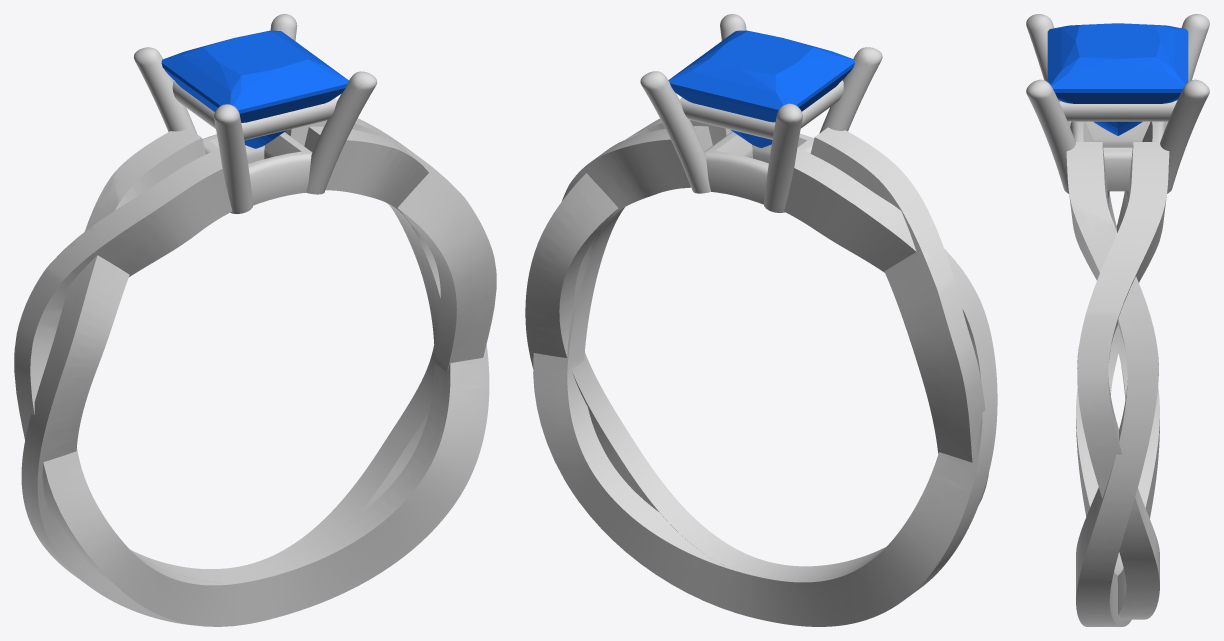
Rendered from bluesapphire-princess-platinum-4prong-twist-nosidestones.glb.
3 renders of one model, left to right at view 1: azimuth 30°, elevation 25°; view 2: azimuth 150°, elevation 25°; view 3: azimuth 270°, elevation 25°, orthographic.
Parts seen in each view (by area): view 1: metal, stone; view 2: metal, stone; view 3: metal, stone.
Boxes of the visible parts, x1,y1,x2,y2 form: metal: (14, 14, 496, 626); stone: (161, 30, 348, 148); metal: (525, 14, 997, 626); stone: (668, 30, 854, 147); metal: (1026, 14, 1209, 626); stone: (1047, 23, 1188, 135).
Bounding box in the file's own units: 19.97 × 23.76 × 7.08.
